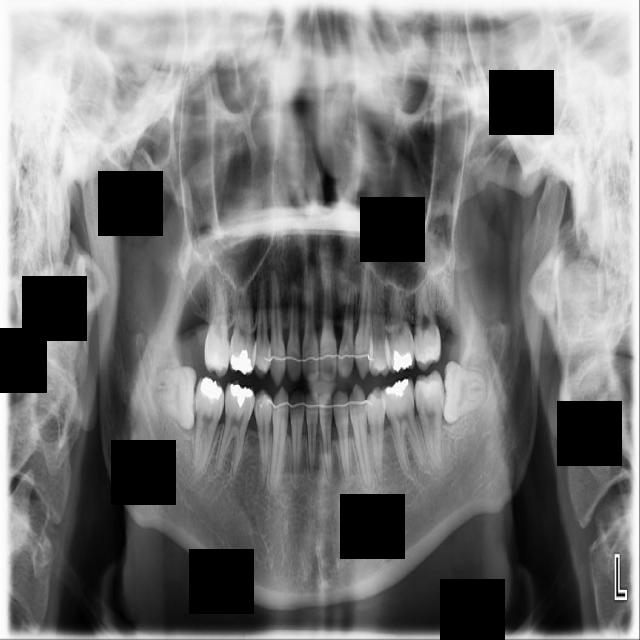52: (375, 376, 423, 423), (382, 323, 418, 375), (221, 380, 258, 426), (192, 376, 227, 423), (226, 332, 260, 376)
73: (533, 562, 540, 576)
BioHorizons Implant: (414, 264, 442, 371)
Biomet 3i Implant: (439, 359, 489, 426)
Blue Sky Bio Implant: (414, 371, 445, 471)
Caries: (204, 257, 231, 379)
Implant: (193, 376, 225, 475)
Keystone Dental Implant: (152, 366, 198, 430)
